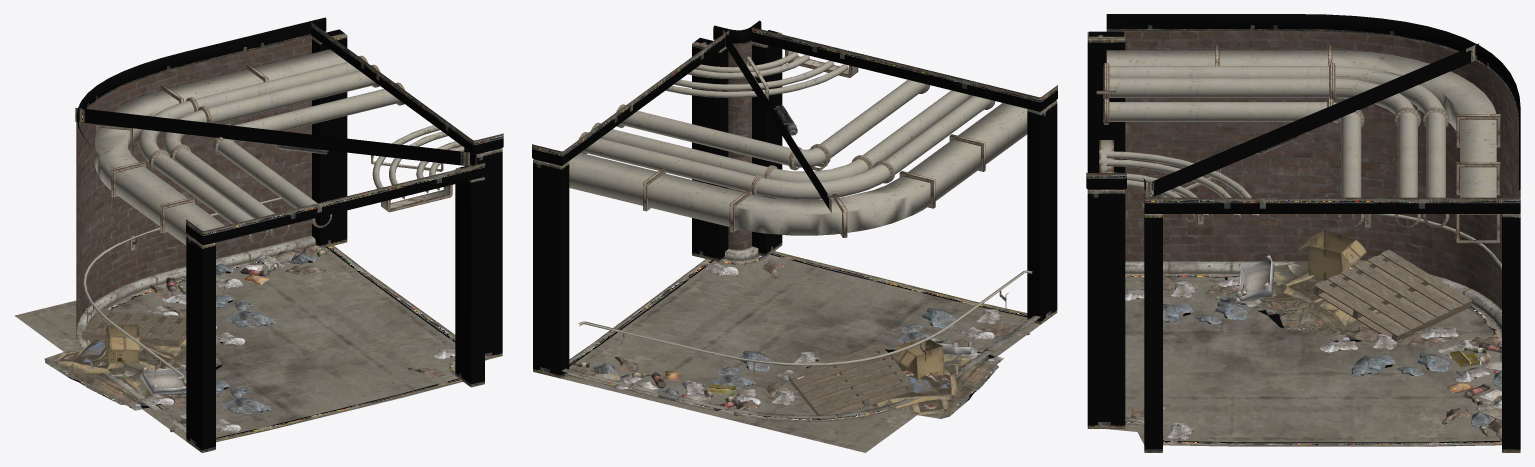
Rendered from link-corner-a-3m.glb.
The picture shows the model from 3 angles, left to right: view 1: azimuth 30°, elevation 25°; view 2: azimuth 150°, elevation 25°; view 3: azimuth 270°, elevation 25°; orthographic projection. The views are drawn at different scales.
Parts seen in each view (by area): view 1: corridor_corner_a_3m_LOD0, junk_pile_Lshape_a, pallet_stacks_c, ground_junk_straight_a, ground_cloth_a, ground_cloth_a (1), cardboard_box_a, wooden_tray_LOD0; view 2: corridor_corner_a_3m_LOD0, pallet_stacks_c, junk_pile_Lshape_a, ground_junk_straight_a, ground_cloth_a, ground_cloth_a (1), cardboard_box_a; view 3: corridor_corner_a_3m_LOD0, pallet_stacks_c, junk_pile_Lshape_a, ground_junk_straight_a, ground_cloth_a, ground_cloth_a (1), cardboard_box_a, wooden_tray_LOD0.
Part boxes in pixels (x1=…): corridor_corner_a_3m_LOD0: x1=14, y1=17, x2=503, y2=452; junk_pile_Lshape_a: x1=44, y1=323, x2=222, y2=410; pallet_stacks_c: x1=82, y1=309, x2=186, y2=347; ground_junk_straight_a: x1=149, y1=245, x2=331, y2=298; ground_cloth_a: x1=147, y1=291, x2=276, y2=345; ground_cloth_a (1): x1=147, y1=380, x2=272, y2=432; cardboard_box_a: x1=105, y1=324, x2=140, y2=364; wooden_tray_LOD0: x1=140, y1=364, x2=186, y2=394; corridor_corner_a_3m_LOD0: x1=532, y1=20, x2=1057, y2=452; pallet_stacks_c: x1=788, y1=344, x2=914, y2=419; junk_pile_Lshape_a: x1=793, y1=337, x2=1003, y2=418; ground_junk_straight_a: x1=569, y1=357, x2=759, y2=416; ground_cloth_a: x1=713, y1=350, x2=820, y2=405; ground_cloth_a (1): x1=897, y1=308, x2=1029, y2=359; cardboard_box_a: x1=891, y1=337, x2=952, y2=379; corridor_corner_a_3m_LOD0: x1=1086, y1=14, x2=1520, y2=452; pallet_stacks_c: x1=1313, y1=249, x2=1471, y2=343; junk_pile_Lshape_a: x1=1212, y1=260, x2=1427, y2=342; ground_junk_straight_a: x1=1442, y1=337, x2=1501, y2=437; ground_cloth_a: x1=1319, y1=325, x2=1479, y2=376; ground_cloth_a (1): x1=1125, y1=273, x2=1264, y2=324; cardboard_box_a: x1=1296, y1=230, x2=1366, y2=279; wooden_tray_LOD0: x1=1237, y1=255, x2=1274, y2=301.
Size of the model in its own units: 6.22 by 3.78 by 5.77.
10 materials, 10 textured.
